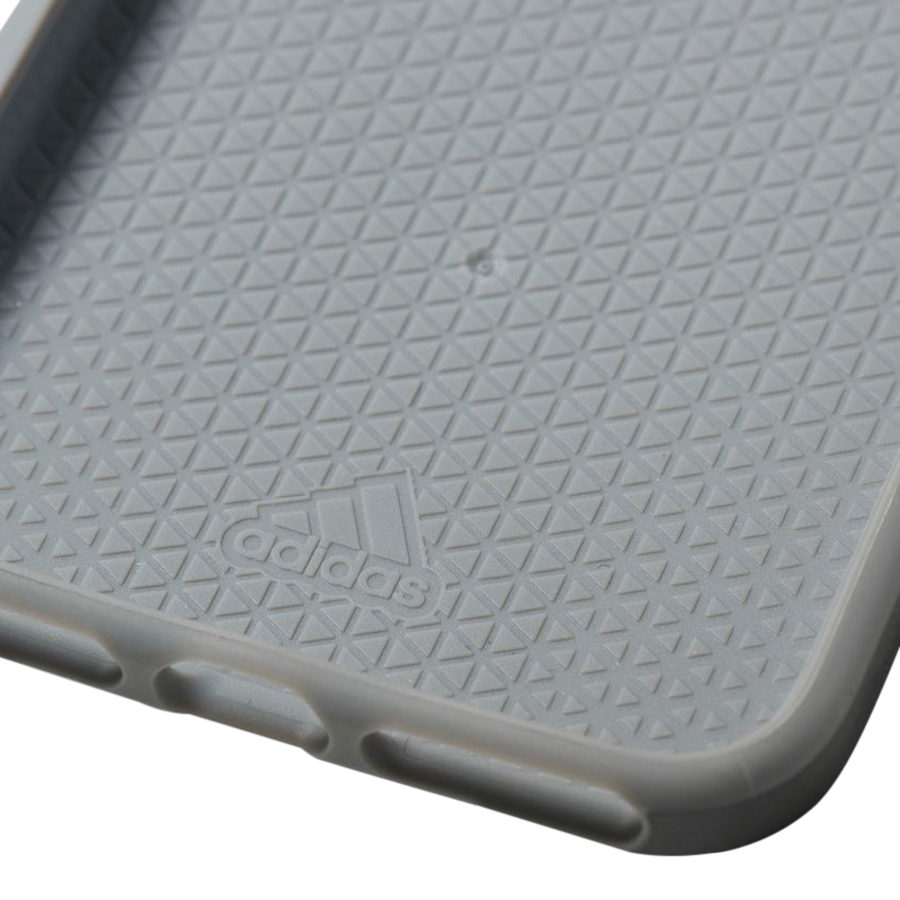Adidas: (211, 457, 458, 628)
